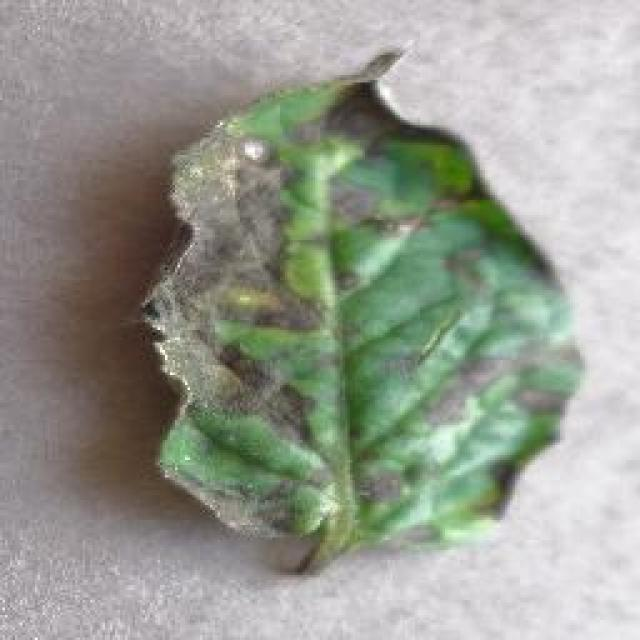leaf blight: (141, 45, 585, 578)
